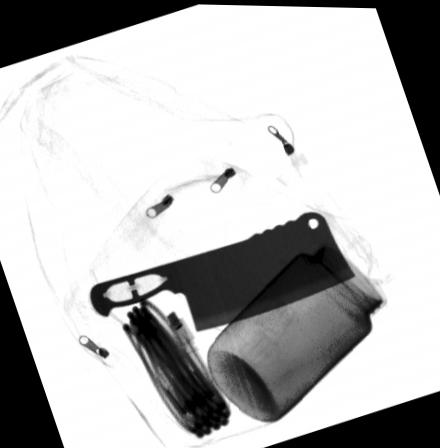Knife: (88, 207, 358, 331)
